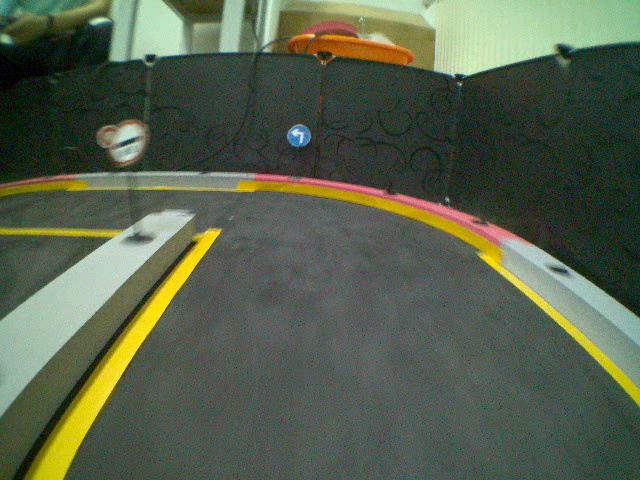Check: (107, 119, 150, 162)
turn: (286, 122, 312, 149)
